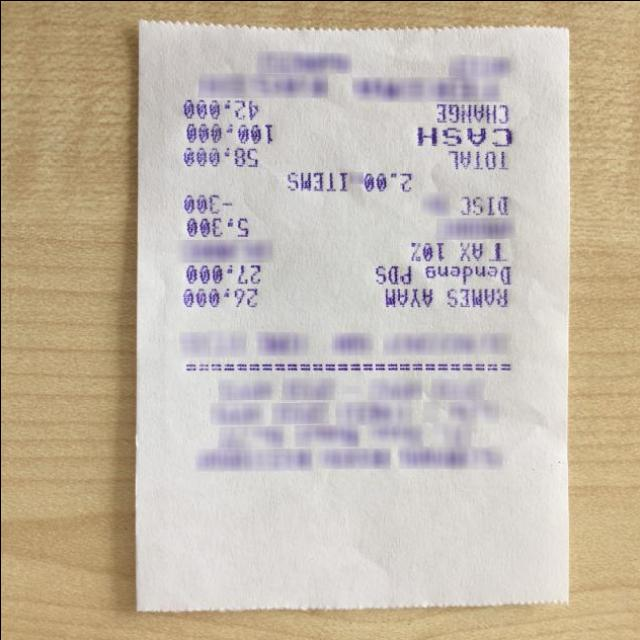kertas: (134, 18, 567, 610)
